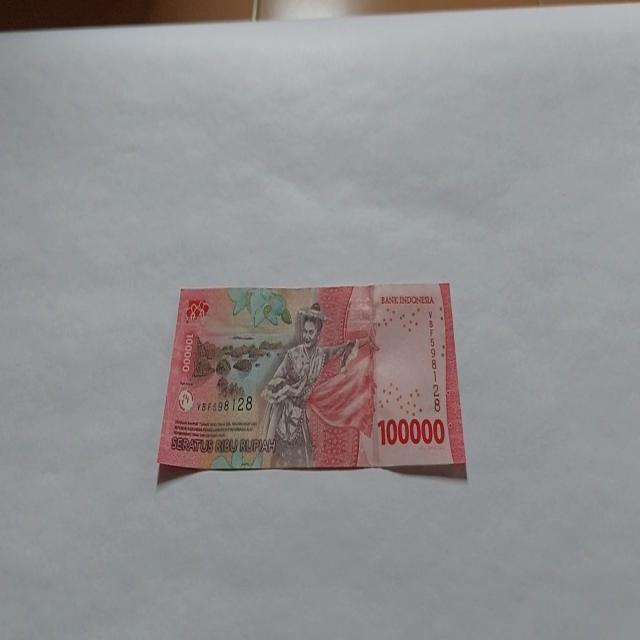seratus ribu rupiah: (156, 280, 467, 477), (255, 301, 356, 468)
